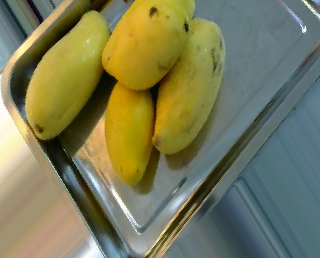Mango: (25, 7, 111, 139), (150, 17, 225, 155), (101, 0, 194, 90), (105, 80, 152, 186)
